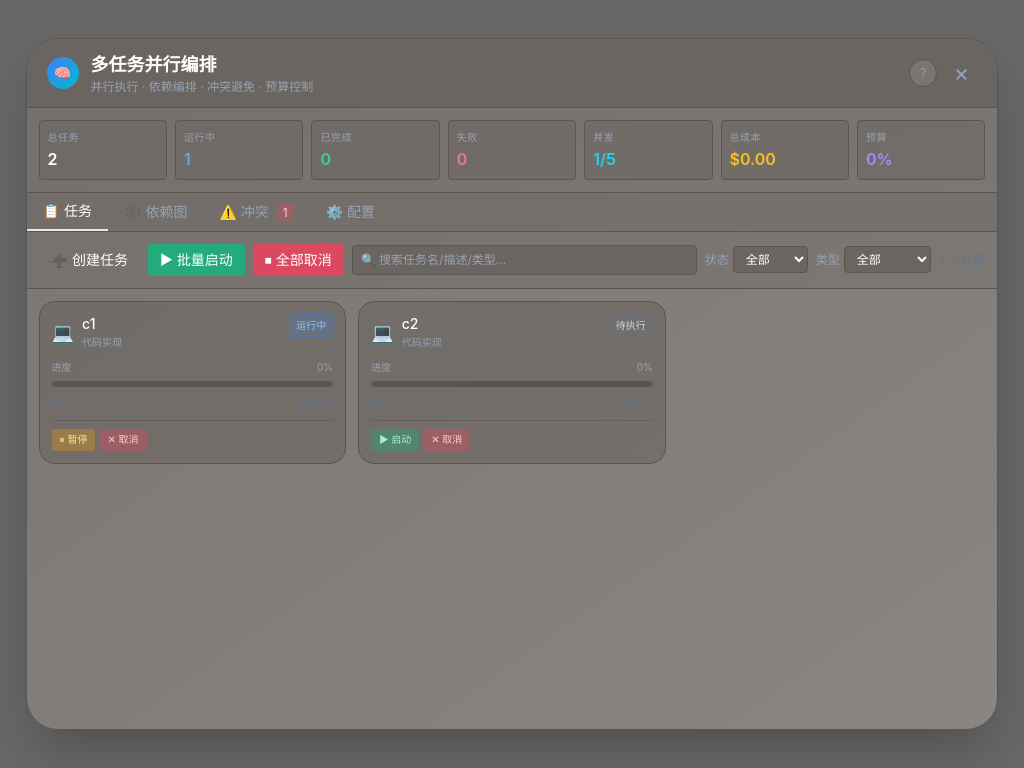
MultiTaskOrchestrationPanel › 冲突标签应显示冲突列表
Click the button with test id "multi-task-tab-conflicts" at (257, 212), box [203,193,310,231]
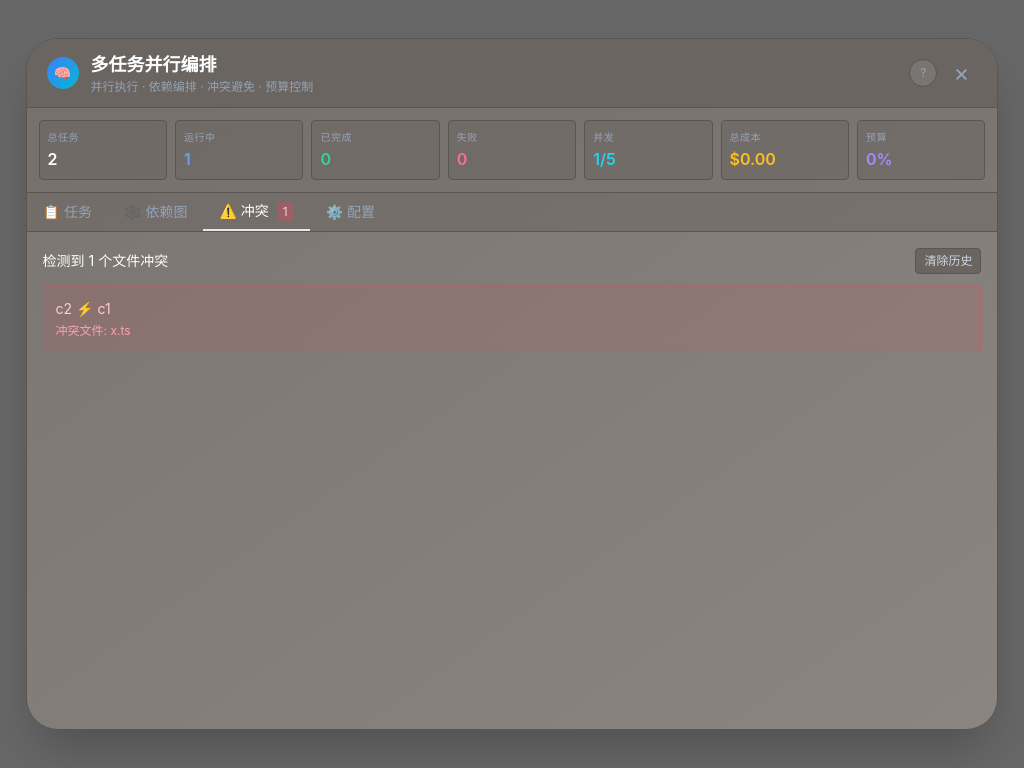
Check: the element with test id "conflict-0" is shown, box [43,286,981,352]
Check: the button with test id "clear-conflicts" is shown, box [915,248,981,274]
